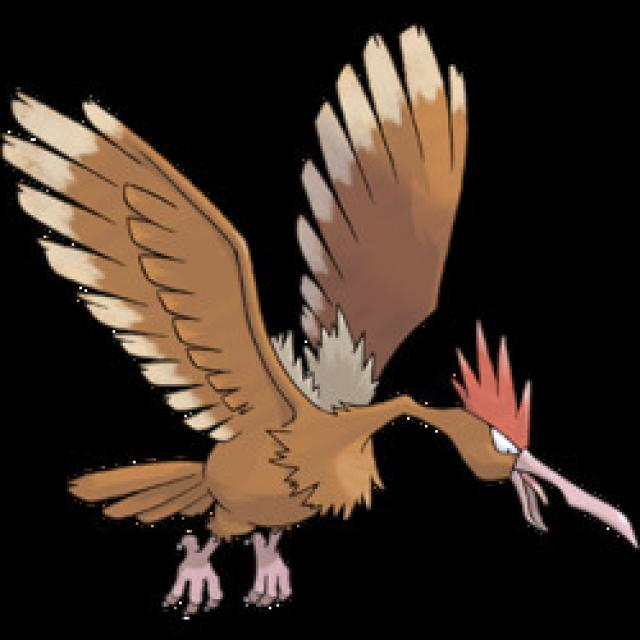Fearow: (120, 183, 572, 606)
